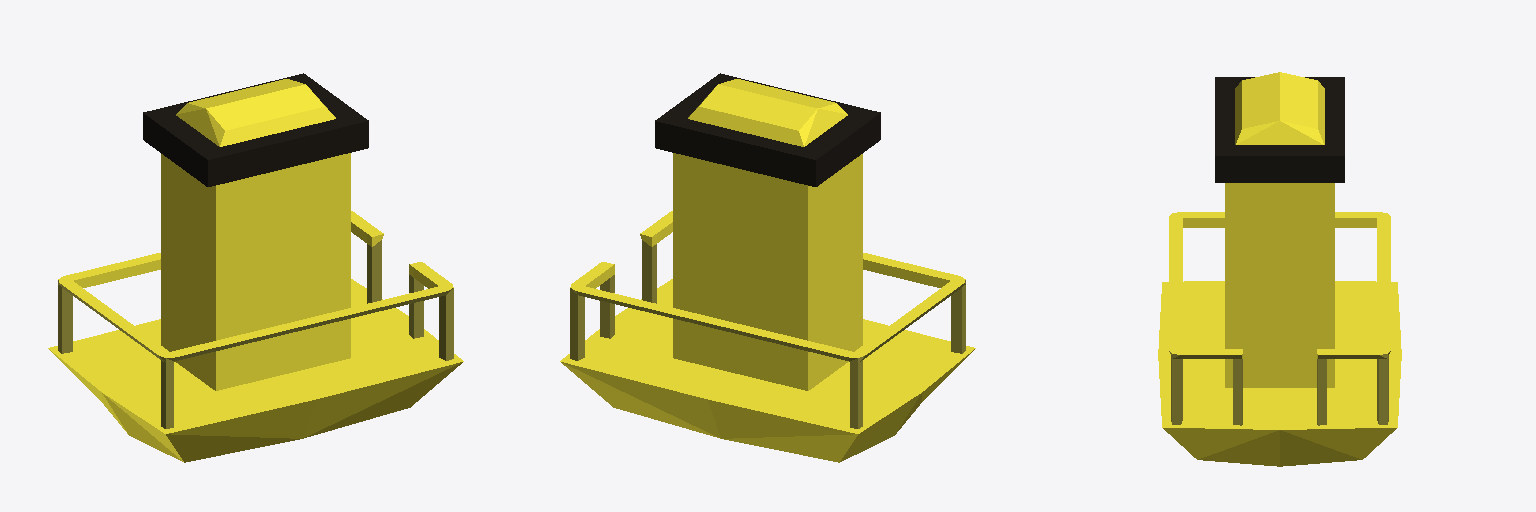
The picture shows the model from 3 angles: view 1: azimuth 30°, elevation 25°; view 2: azimuth 150°, elevation 25°; view 3: azimuth 270°, elevation 25°; orthographic projection.
Visible parts, largest first — view 1: Buoy; view 2: Buoy; view 3: Buoy.
Part boxes in pixels (left/top/right/bottom): Buoy: left=48, top=73, right=463, bottom=462; Buoy: left=560, top=73, right=975, bottom=462; Buoy: left=1158, top=72, right=1401, bottom=466.
Bounding box in the file's own units: 1.38 × 1.36 × 0.9439.
Materials: 1 (1 with a texture image).